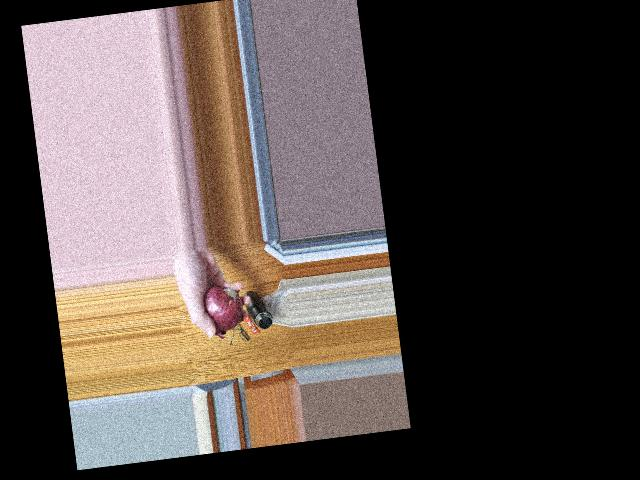onion: (197, 286, 239, 329)
